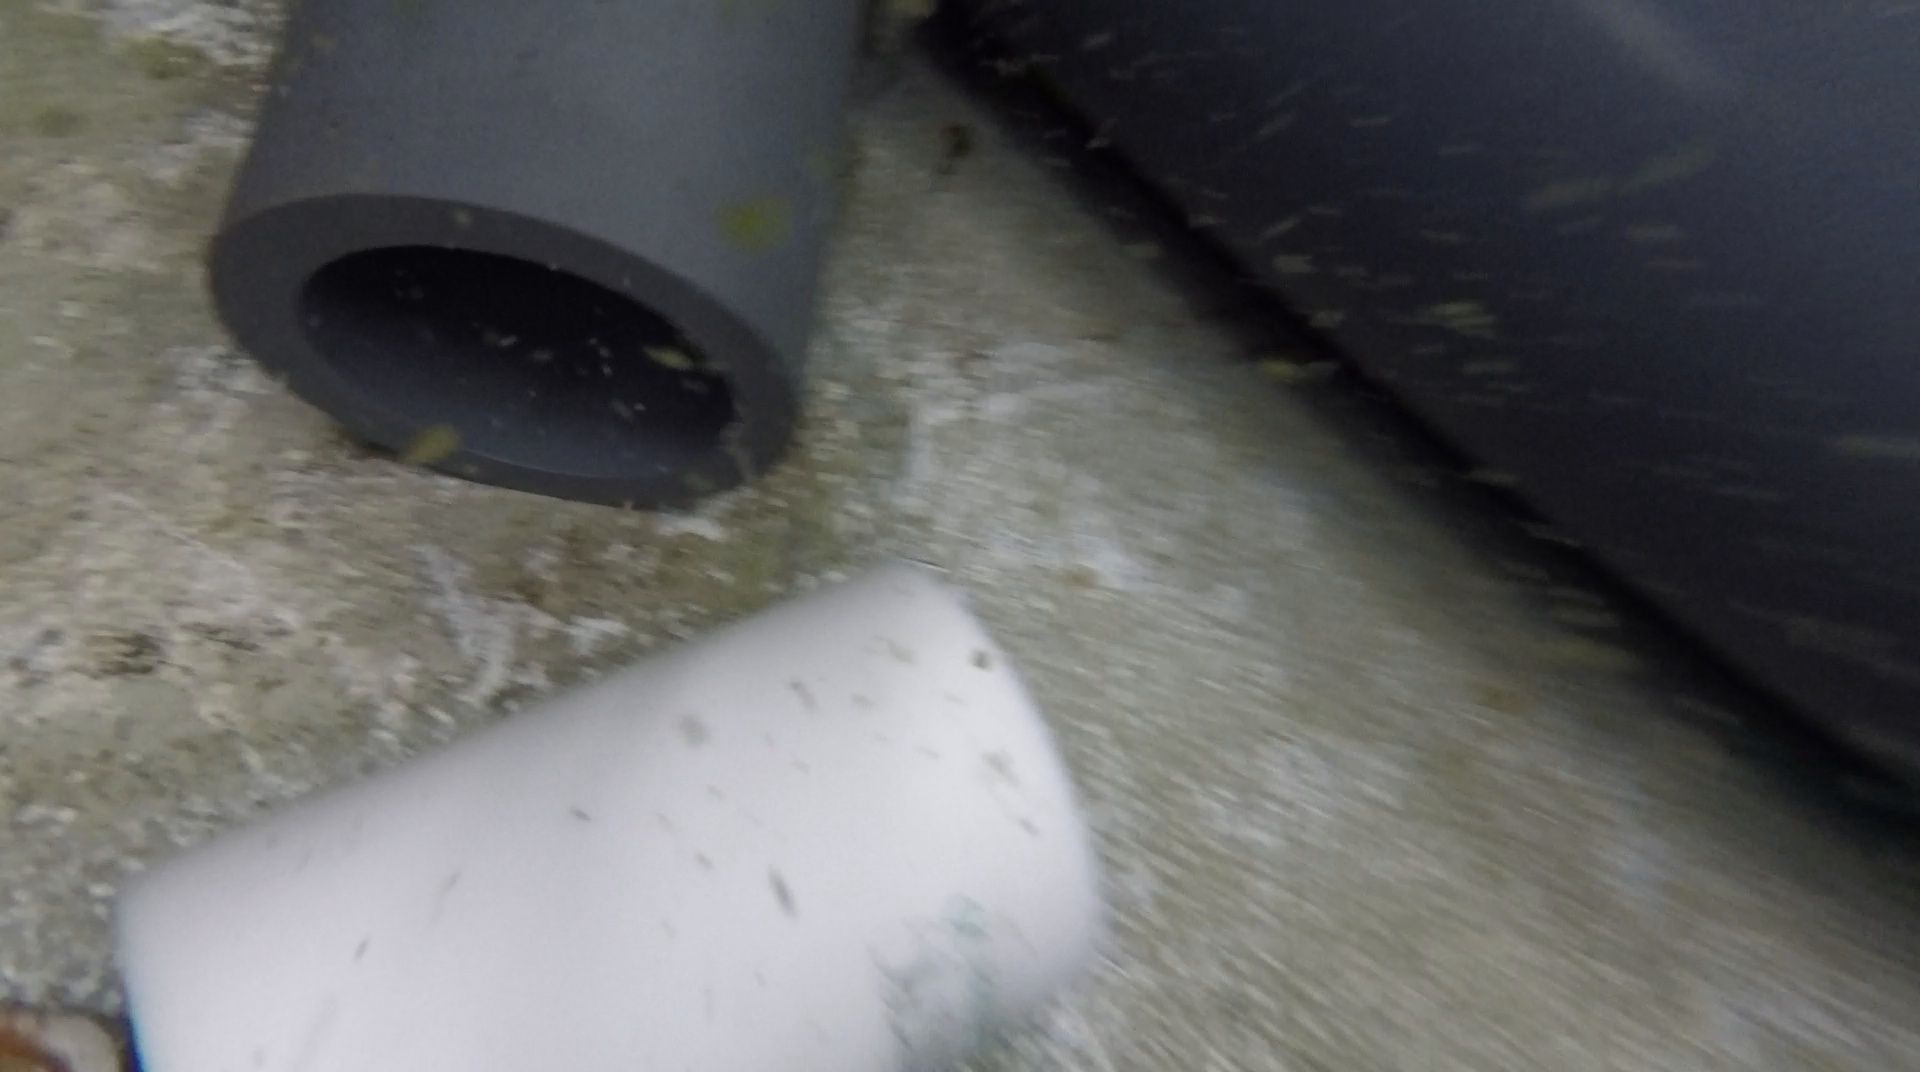pipe: (930, 1, 1919, 782), (117, 564, 1109, 1071), (208, 1, 872, 508)
